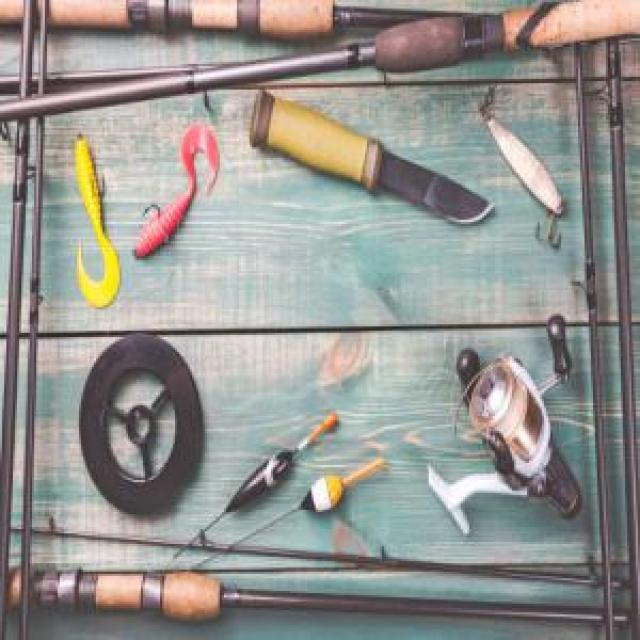knife: (239, 90, 494, 226)
